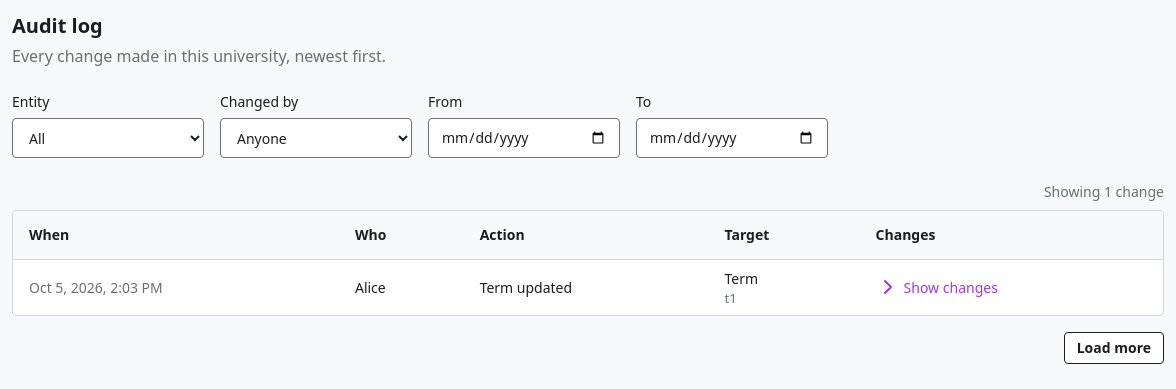
Test case: loads more pages by cursor
The image size is (1176, 389).
Expected: the text "Alice" is shown, [339,260,464,314]
Click the button "Load more".
click(1114, 348)  # box [1064,332,1164,364]
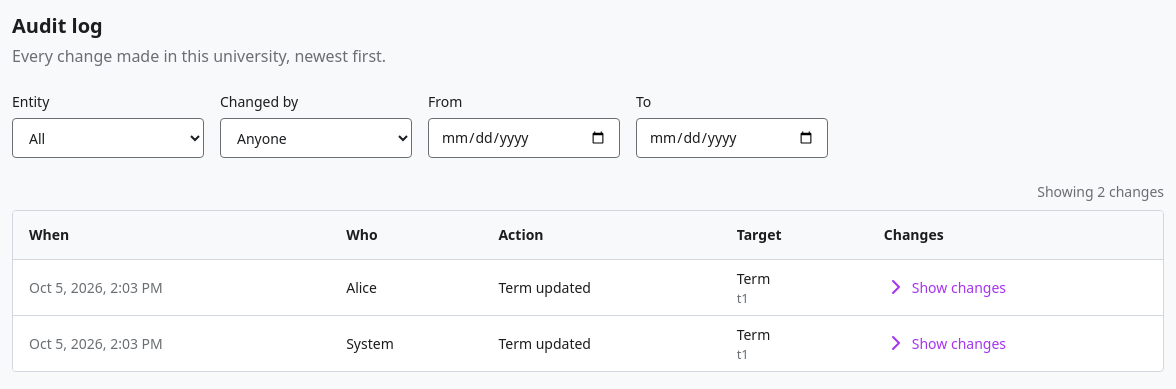
Expected: the text "Alice" is shown, [330,260,482,315]
Result: the text "System" is shown at [330,315,482,370]
Result: the button "Load more" is gone
